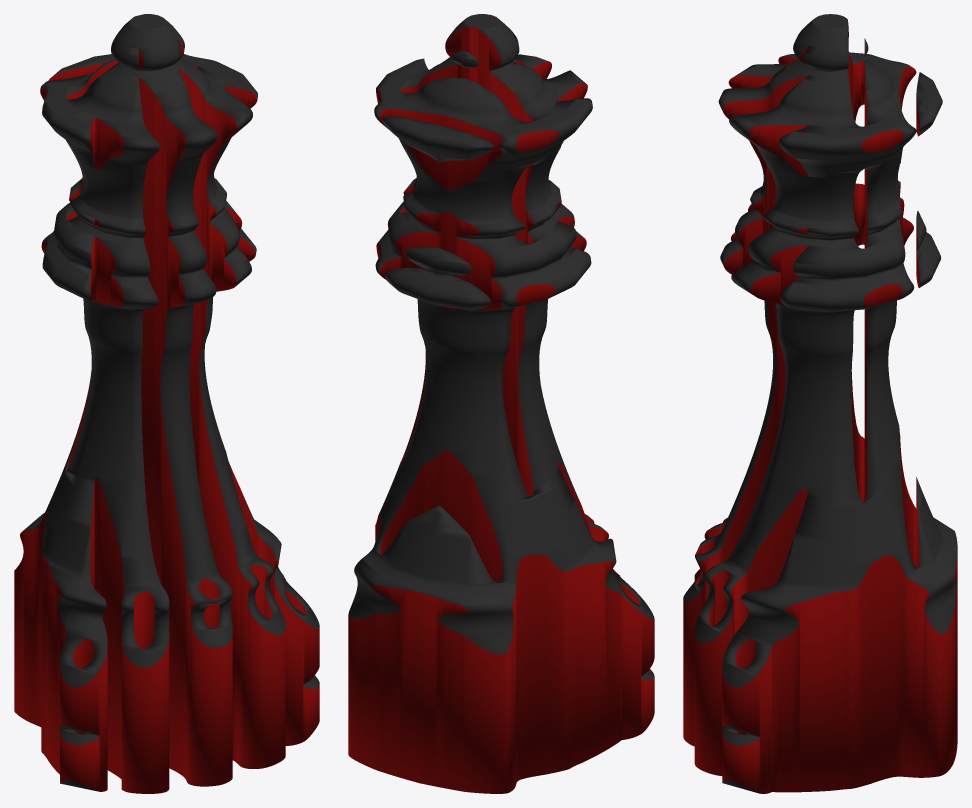
Rendered from BlackQueen.fbx.
3 views of the same model, side by side, from view 1: azimuth 30°, elevation 25°; view 2: azimuth 150°, elevation 25°; view 3: azimuth 270°, elevation 25° (orthographic).
Visible parts, largest first — view 1: Queen.001; view 2: Queen.001; view 3: Queen.001.
Part boxes in pixels (bbox=[...]): Queen.001: bbox=[14, 14, 319, 793]; Queen.001: bbox=[348, 14, 654, 793]; Queen.001: bbox=[683, 14, 957, 793].
Bounding box in the file's own units: 61 × 166 × 56.78.
